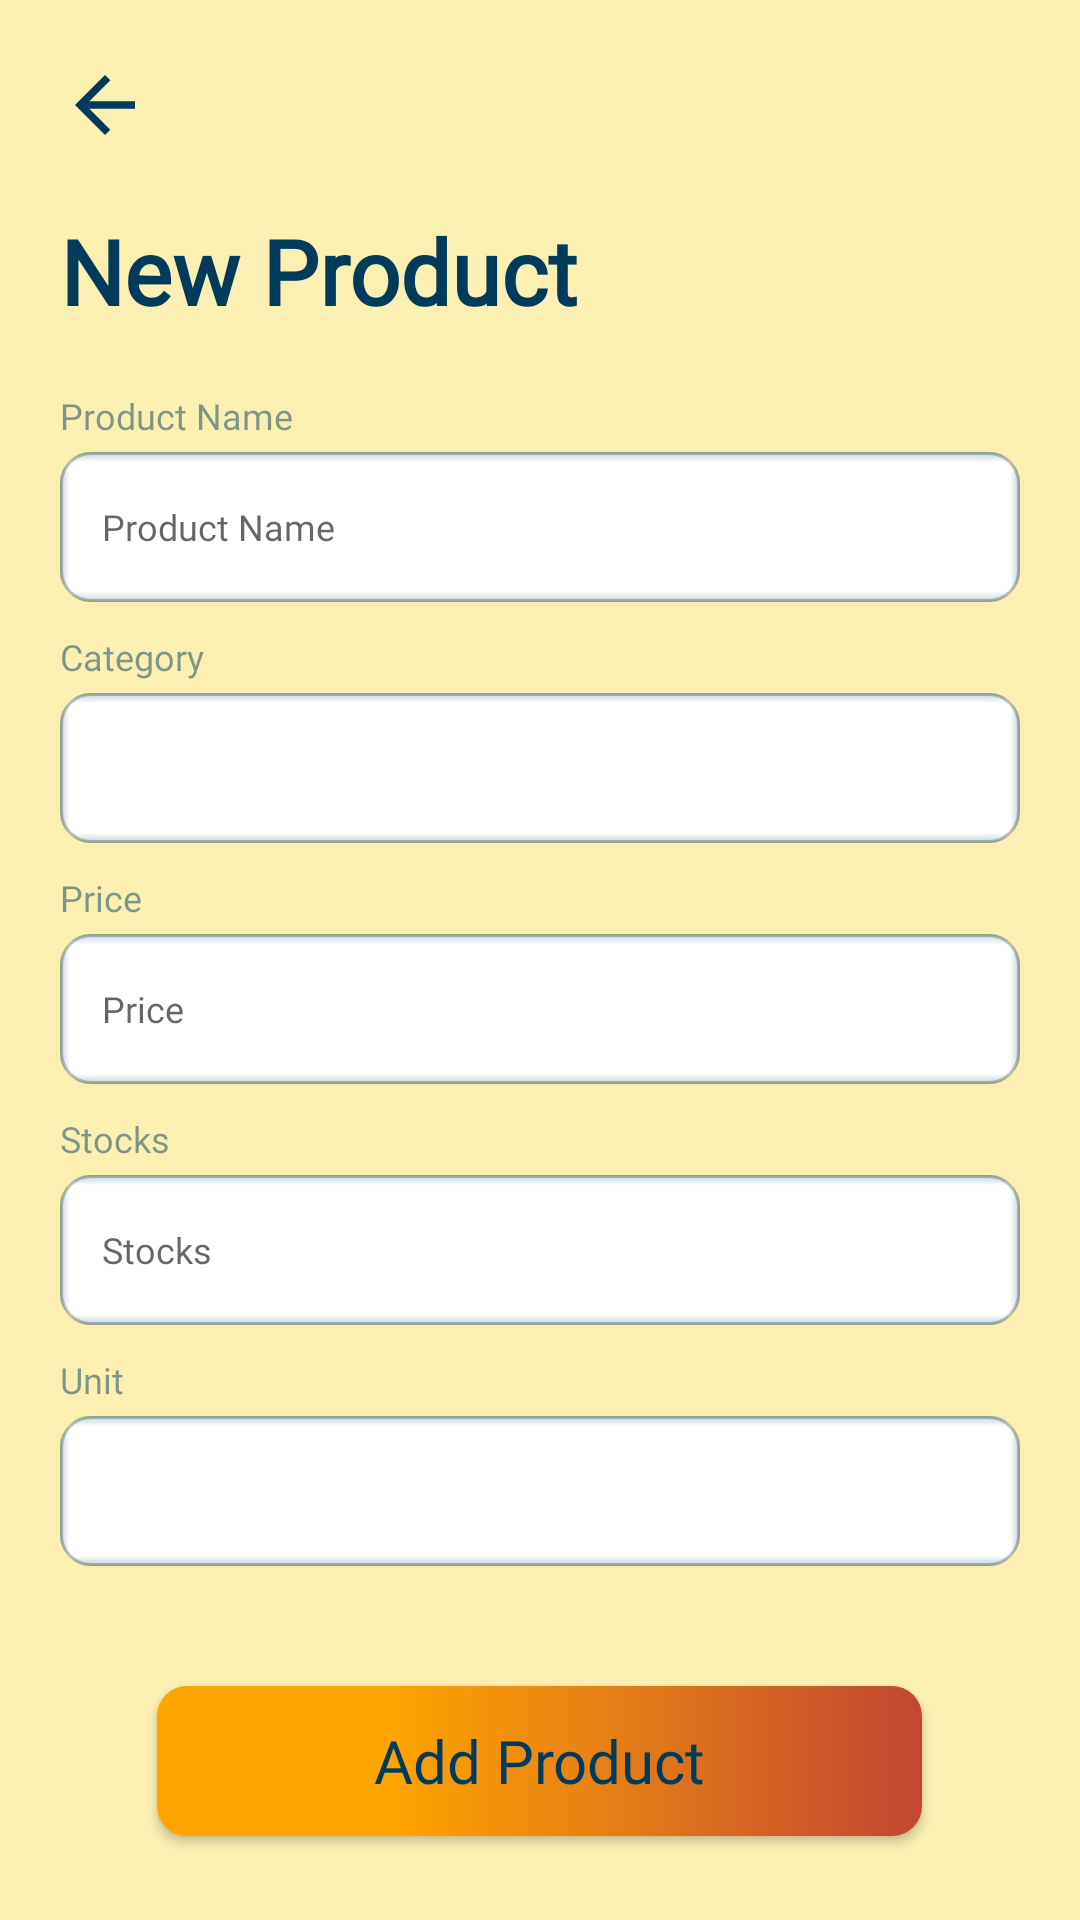

Where to tap for icons on this 1080px x 1920px app screen, as point (x, y):
arrow back: point (105, 105)
